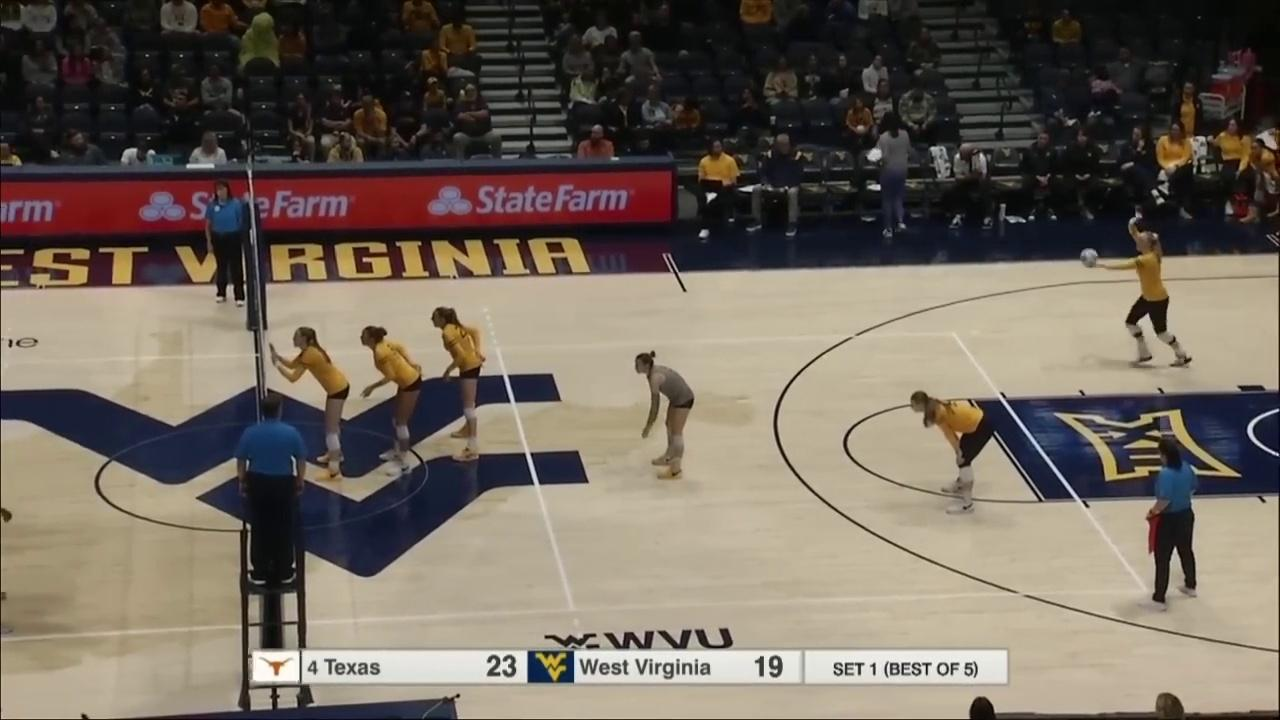player: (1108, 221, 1188, 369), (906, 392, 996, 510), (292, 326, 352, 480), (365, 326, 425, 478), (636, 353, 705, 479), (435, 306, 485, 460)
refree: (235, 392, 307, 588), (1138, 445, 1202, 604), (206, 183, 249, 308)
